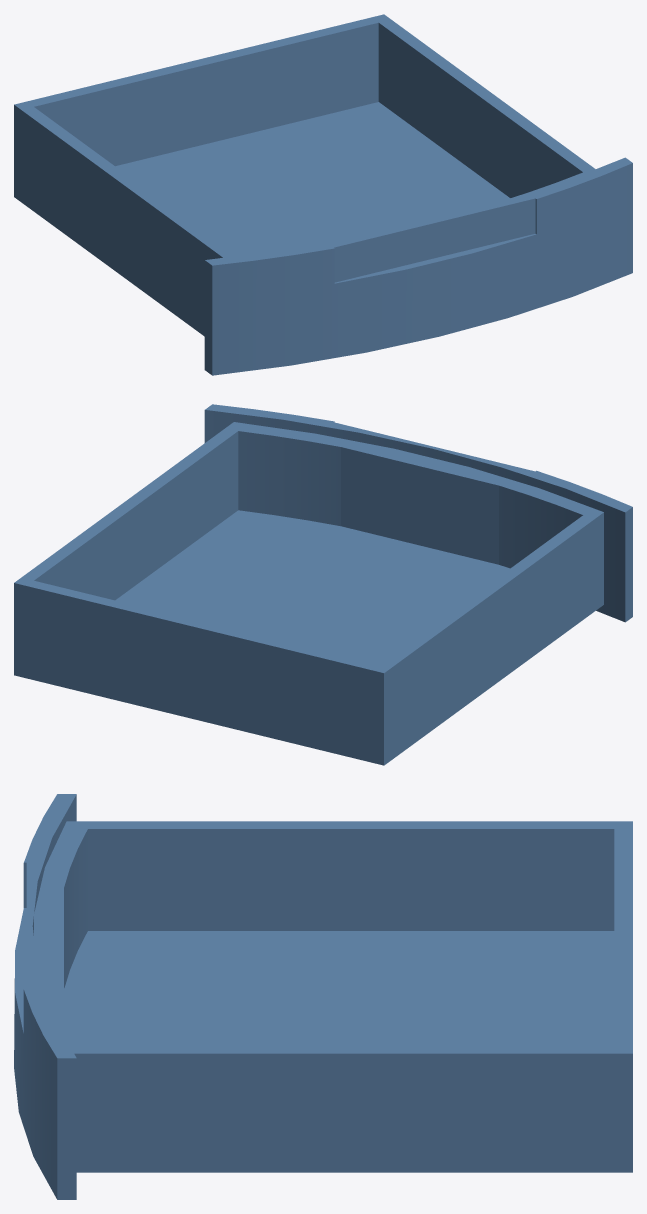
Rendered from step_01.glb.
The picture shows the model from 3 angles, top to bottom: view 1: azimuth 30°, elevation 25°; view 2: azimuth 150°, elevation 25°; view 3: azimuth 270°, elevation 25°; orthographic projection. The views are drawn at different scales.
Parts seen in each view (by area): view 1: part__dispensing drawer; view 2: part__dispensing drawer; view 3: part__dispensing drawer.
Part boxes in pixels (x1=…): part__dispensing drawer: x1=14, y1=14, x2=632, y2=375; part__dispensing drawer: x1=14, y1=404, x2=632, y2=765; part__dispensing drawer: x1=14, y1=794, x2=632, y2=1199.
Size of the model in its own units: 50 by 12.5 by 49.5.
